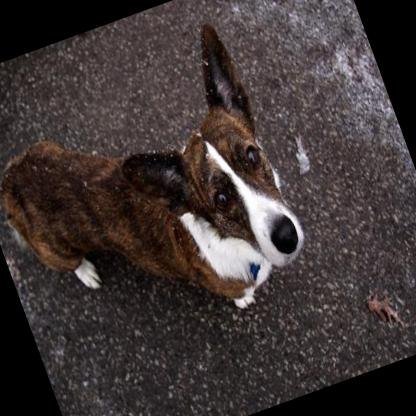Cardigan: (0, 10, 318, 373)
